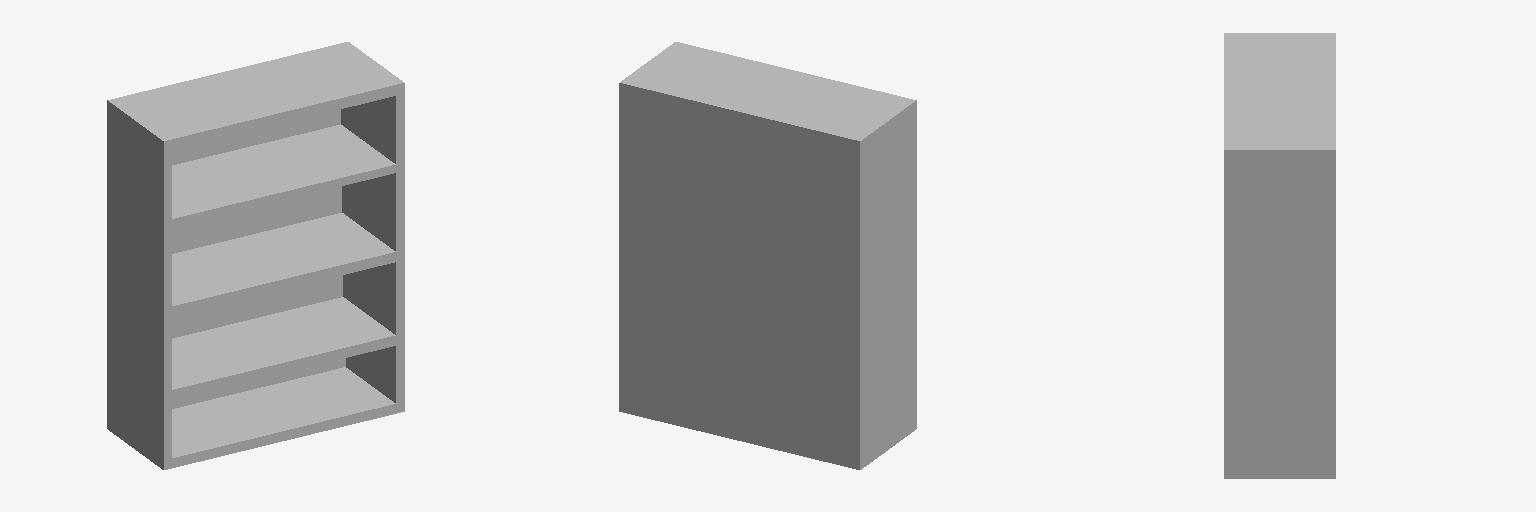
File: shelf.obj
3 views of the same model, side by side, from view 1: azimuth 30°, elevation 25°; view 2: azimuth 150°, elevation 25°; view 3: azimuth 270°, elevation 25° (orthographic).
Visible parts, largest first — view 1: pCube1; view 2: pCube1; view 3: pCube1.
Part boxes in pixels (x1,y1,x2,y2): pCube1: (107, 42, 404, 469); pCube1: (619, 42, 916, 469); pCube1: (1224, 33, 1335, 478).
Size of the model in its own units: 13.28 by 17.33 by 5.37.